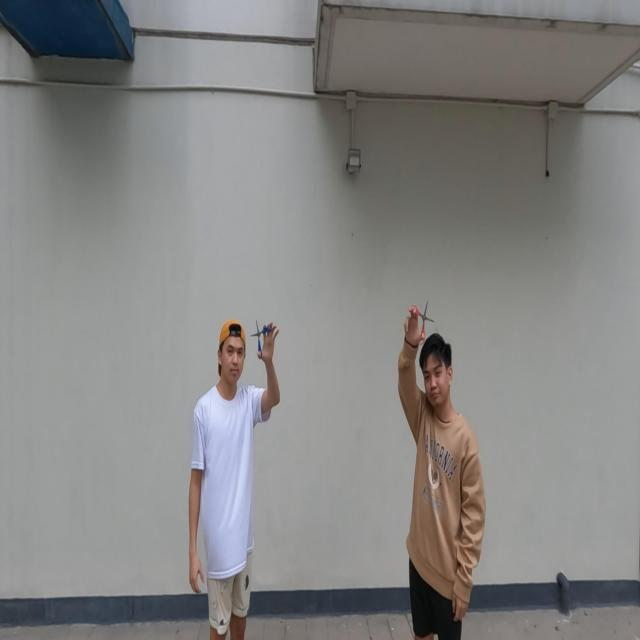scissor: (407, 297, 437, 346), (252, 318, 272, 360)
